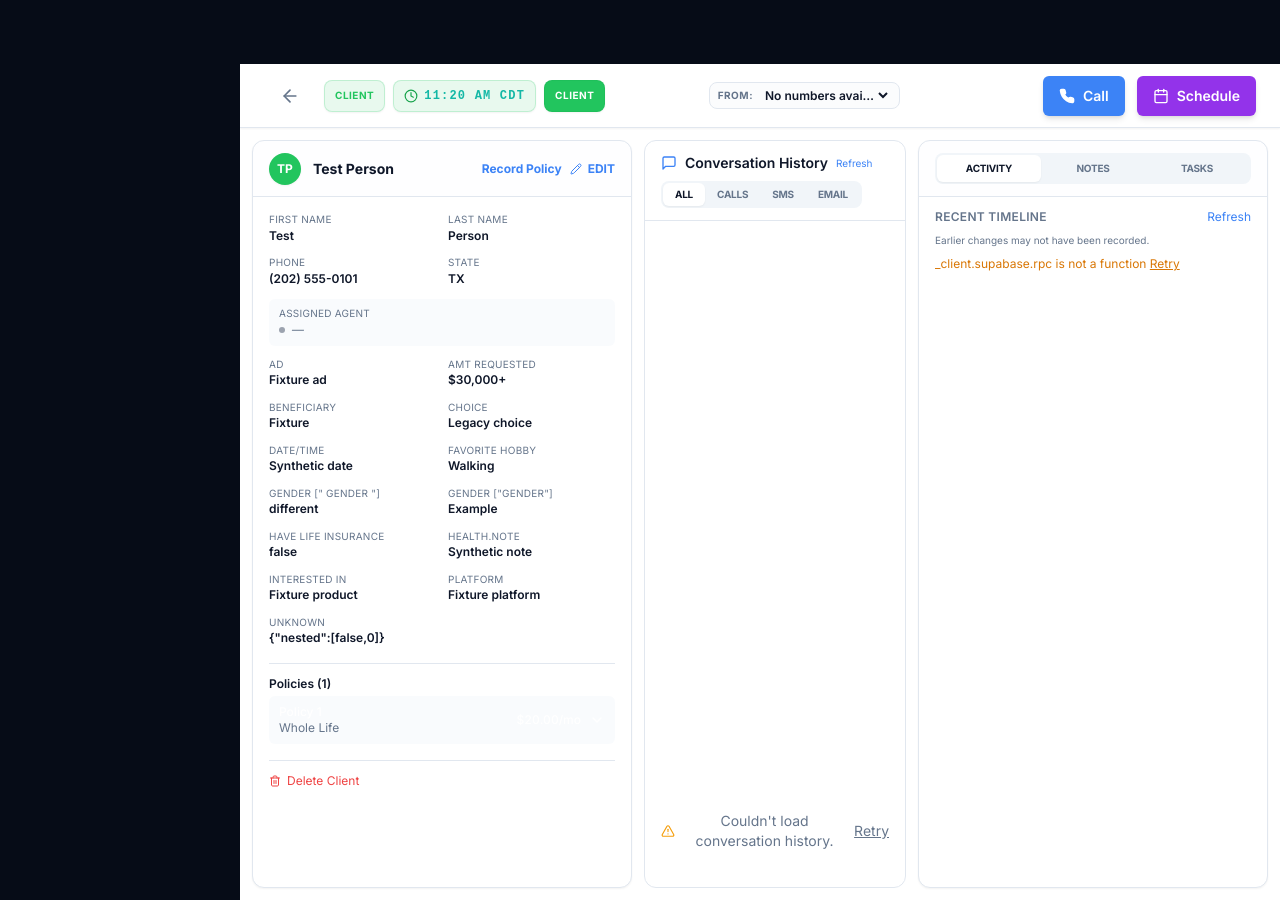
Scenario: visibility, editing and preservation › no-op and unrelated saves preserve ranges, unknown structured values, key variants and policies exactly
Step 1. Click the button "EDIT" → click(592, 168), box [570, 160, 615, 176]
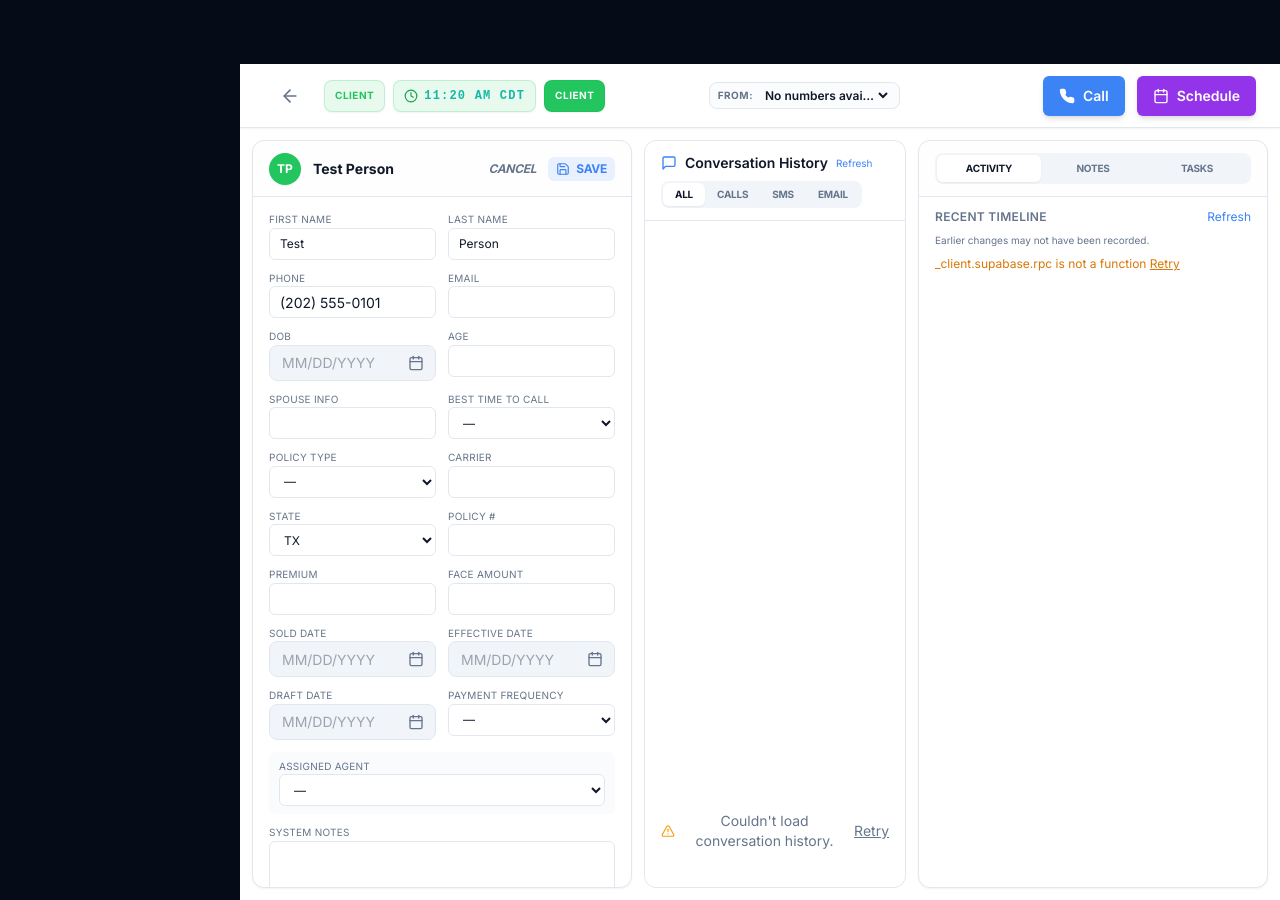
Step 2. Click the button "SAVE" → click(582, 168), box [548, 156, 615, 180]
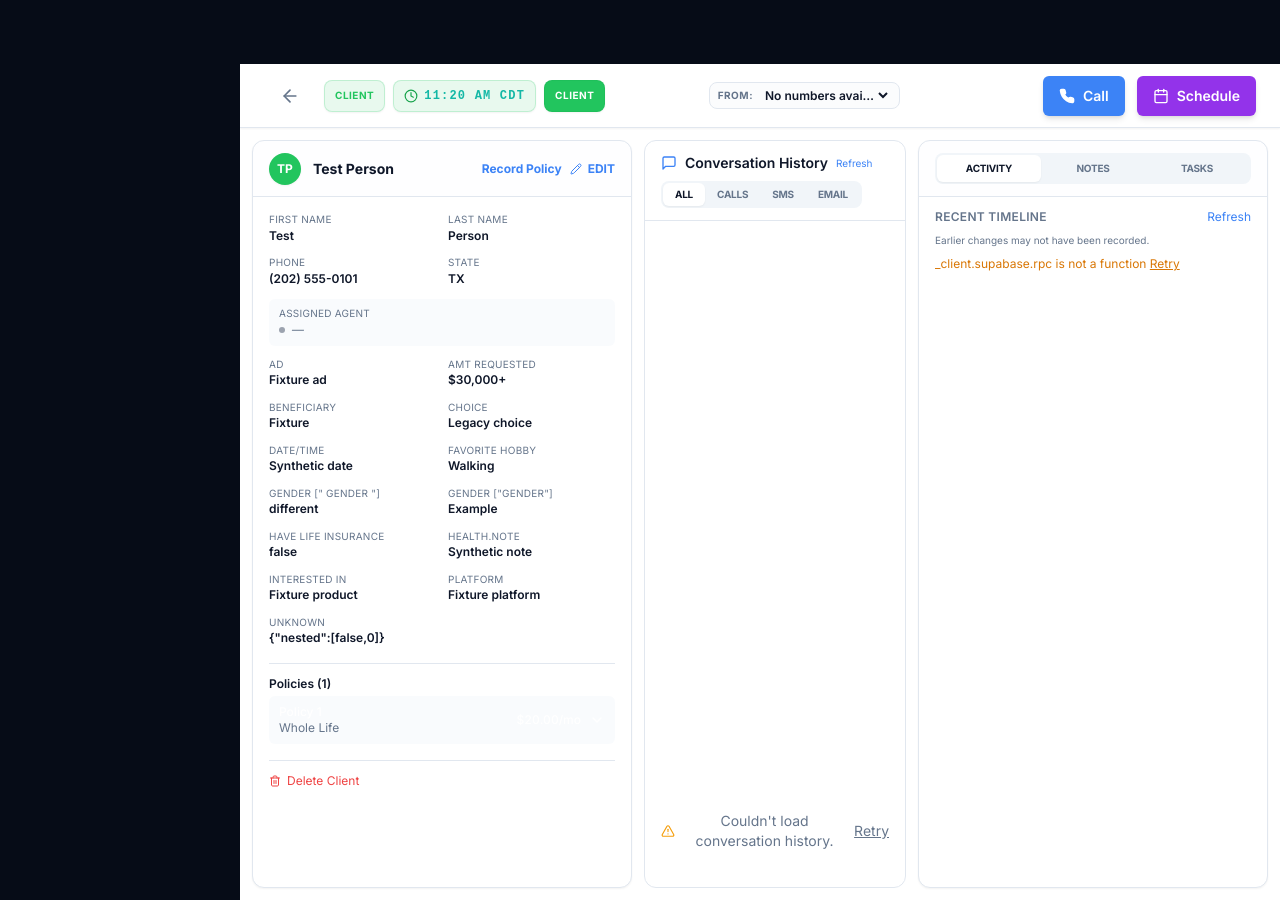
Now the button "SAVE" is gone
Step 3. Click the button "EDIT" → click(592, 168), box [570, 160, 615, 176]
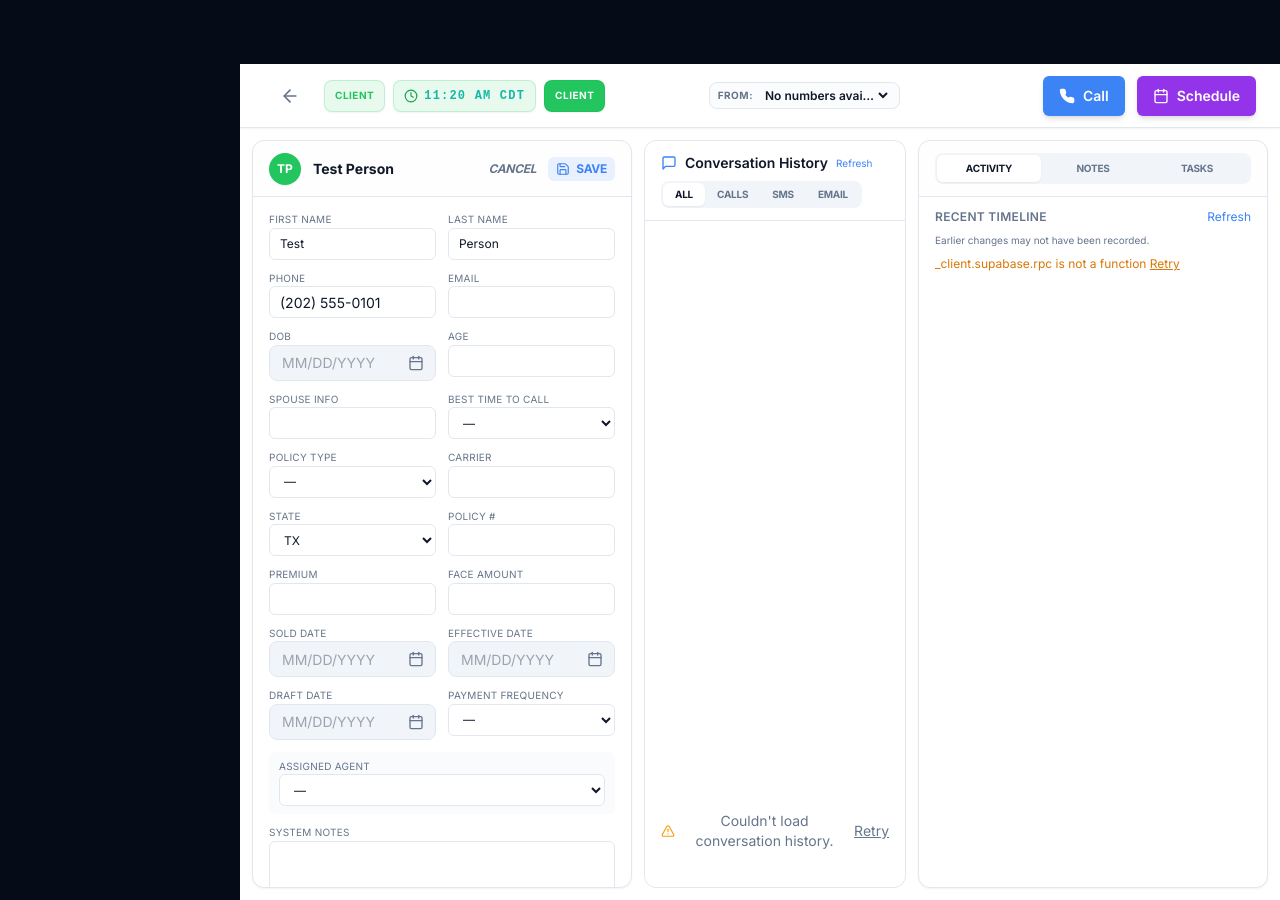
Step 4. Replace the text in the field named "First Name" with "Updated" → (352, 244), box [269, 228, 436, 260]
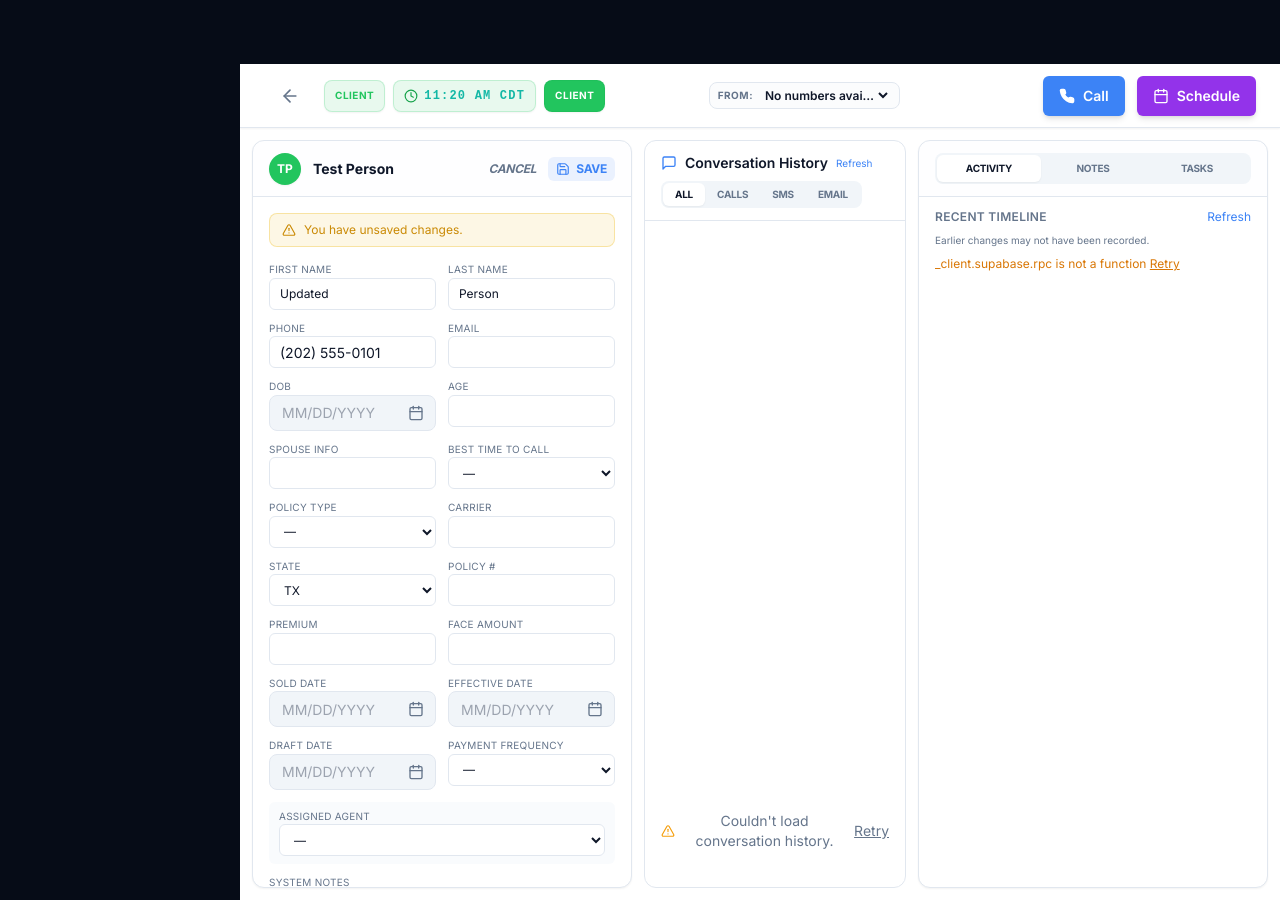
Step 5. Click the button "SAVE" → click(582, 168), box [548, 156, 615, 180]
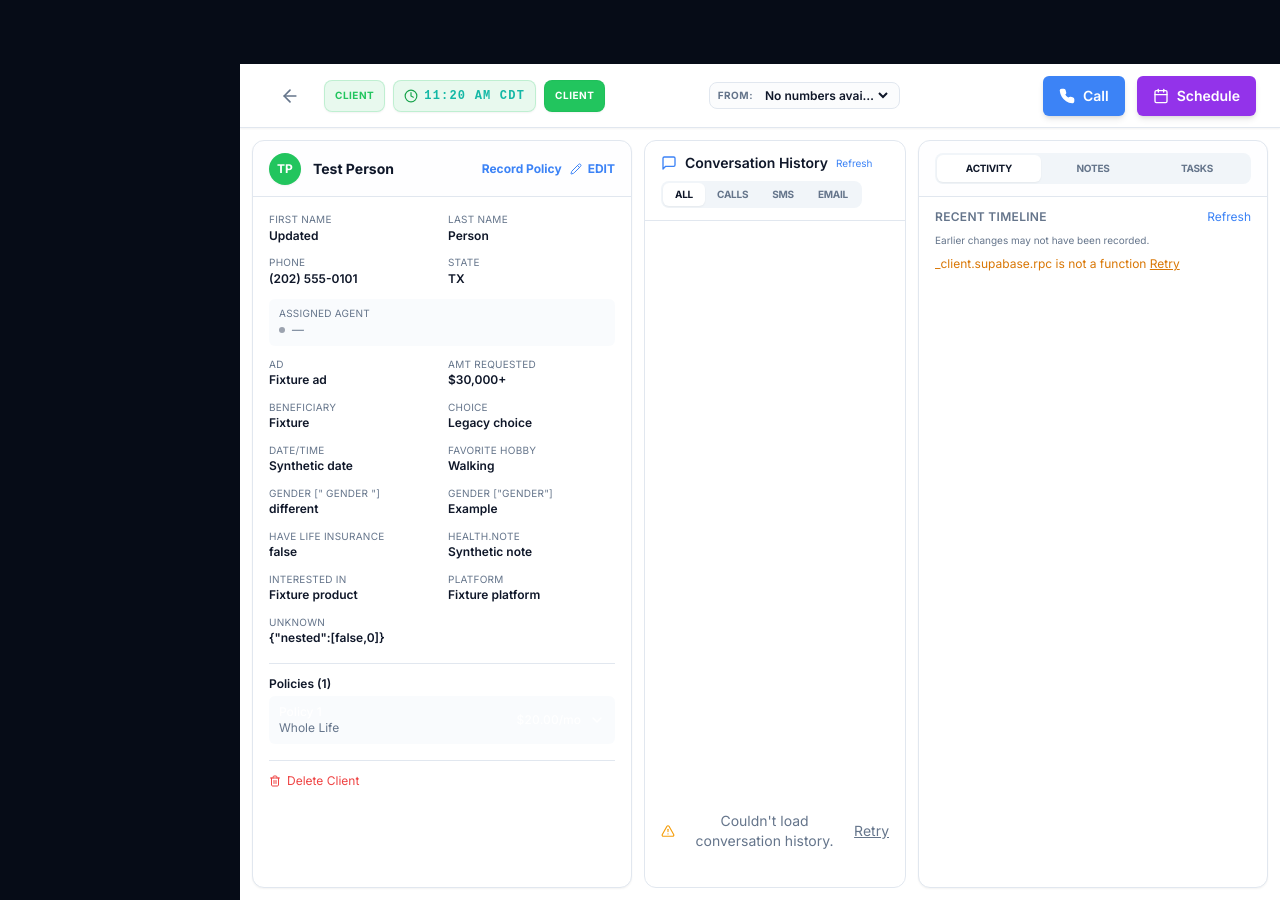
Now the text "Updated" is shown, box [269, 228, 318, 244]
